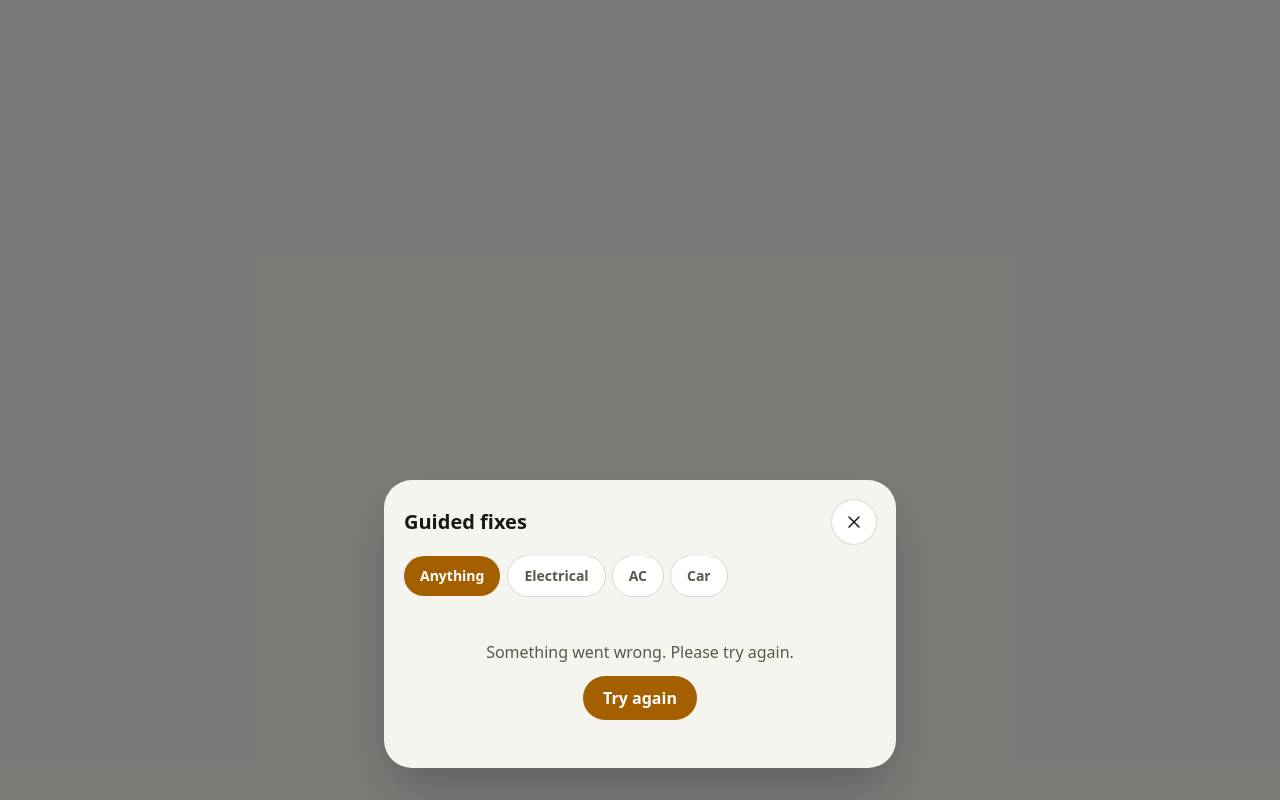
PlaybookSheet › shows an error with retry when loading fails
Expected: the message "Something went wrong. Please try again. Try again" is shown, [486,641,794,720]
Click the button "Try again": (640, 698) [583,676,697,720]
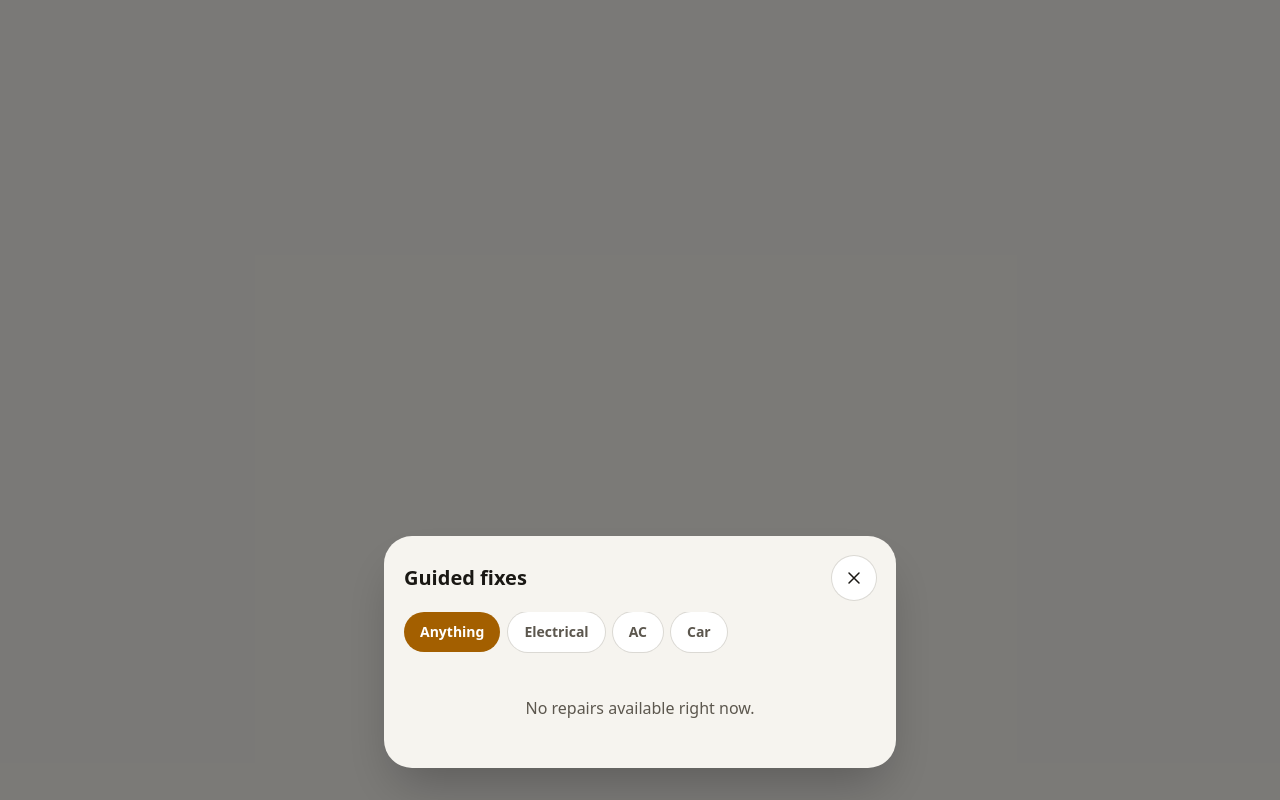
Now the text "No repairs available right now." is shown, box [526,697,754,719]
